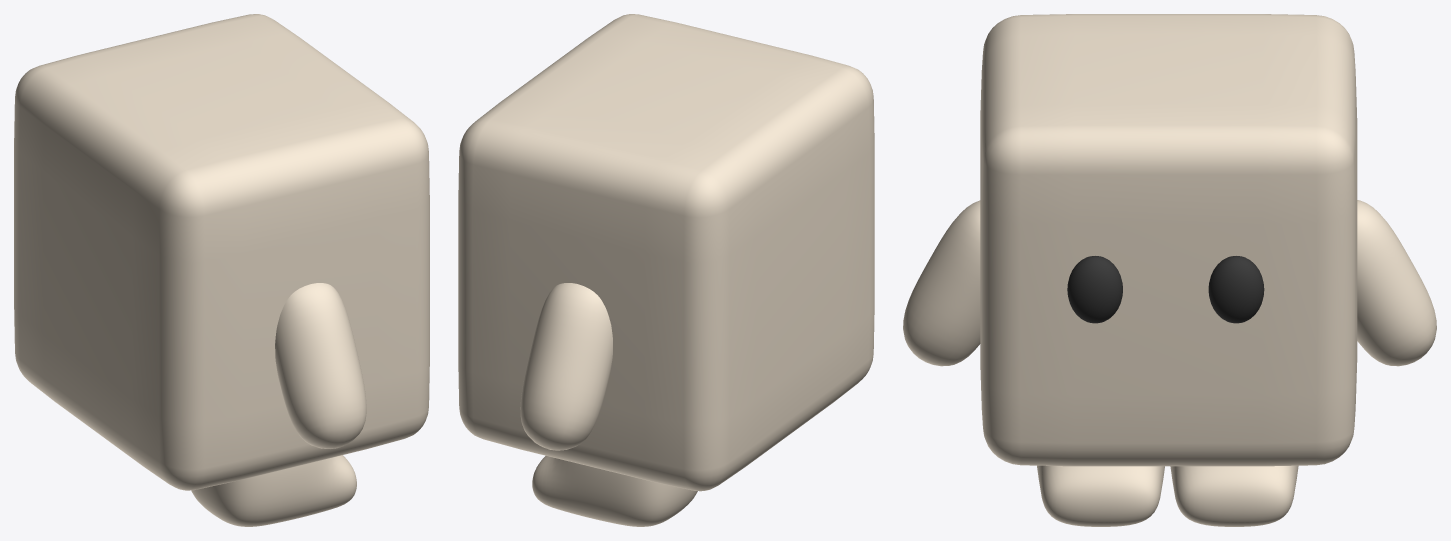
Rendered from 당당이애교.glb.
3 renders of one model, left to right at view 1: azimuth 30°, elevation 25°; view 2: azimuth 150°, elevation 25°; view 3: azimuth 270°, elevation 25°, orthographic. The views are drawn at different scales.
Visible parts, largest first — view 1: Cube, Cube.001, Cube.004; view 2: Cube, Cube.002, Cube.005; view 3: Cube, Cube.002, Cube.001, Cube.004, Cube.005, Sphere, Sphere.001.
Part boxes in pixels (x1,y1,x2,y2): Cube: (14, 14, 429, 490); Cube.001: (275, 283, 366, 448); Cube.004: (191, 455, 356, 526); Cube: (458, 14, 874, 491); Cube.002: (520, 283, 612, 450); Cube.005: (532, 456, 697, 526); Cube: (980, 14, 1357, 466); Cube.002: (1357, 200, 1436, 366); Cube.001: (903, 200, 980, 366); Cube.004: (1037, 465, 1164, 526); Cube.005: (1170, 465, 1298, 526); Sphere: (1067, 256, 1122, 323); Sphere.001: (1208, 256, 1264, 323).
Bounding box in the file's own units: 1.92 × 2.49 × 2.83.
7 materials, 7 textured.
